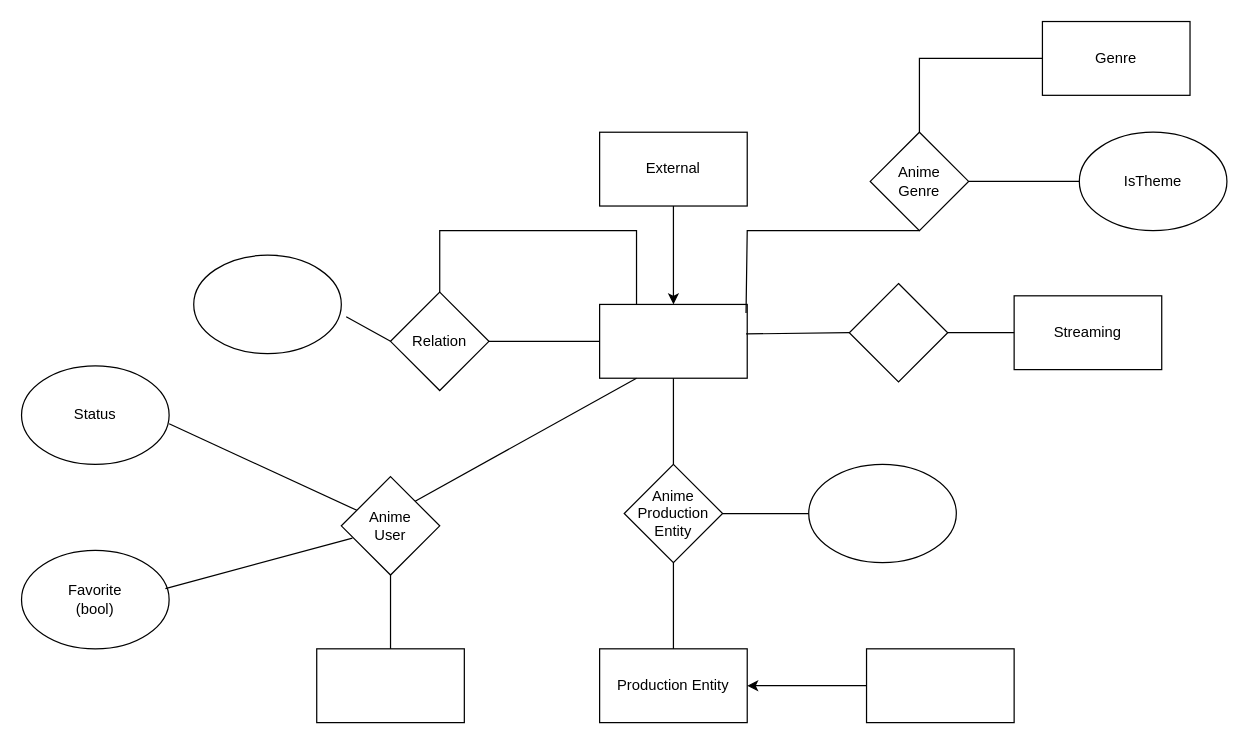
This 1248x744 diagram has some shape labels left out. Each missing label, with the centre of its shape:
"Anime" belongs at point (672, 340).
"Anime Streaming" belongs at point (898, 332).
"Production Entity Title" belongs at point (939, 685).
"RelationType" belongs at point (266, 304).
"Type" belongs at point (881, 513).
"UserAccount" belongs at point (389, 685).
